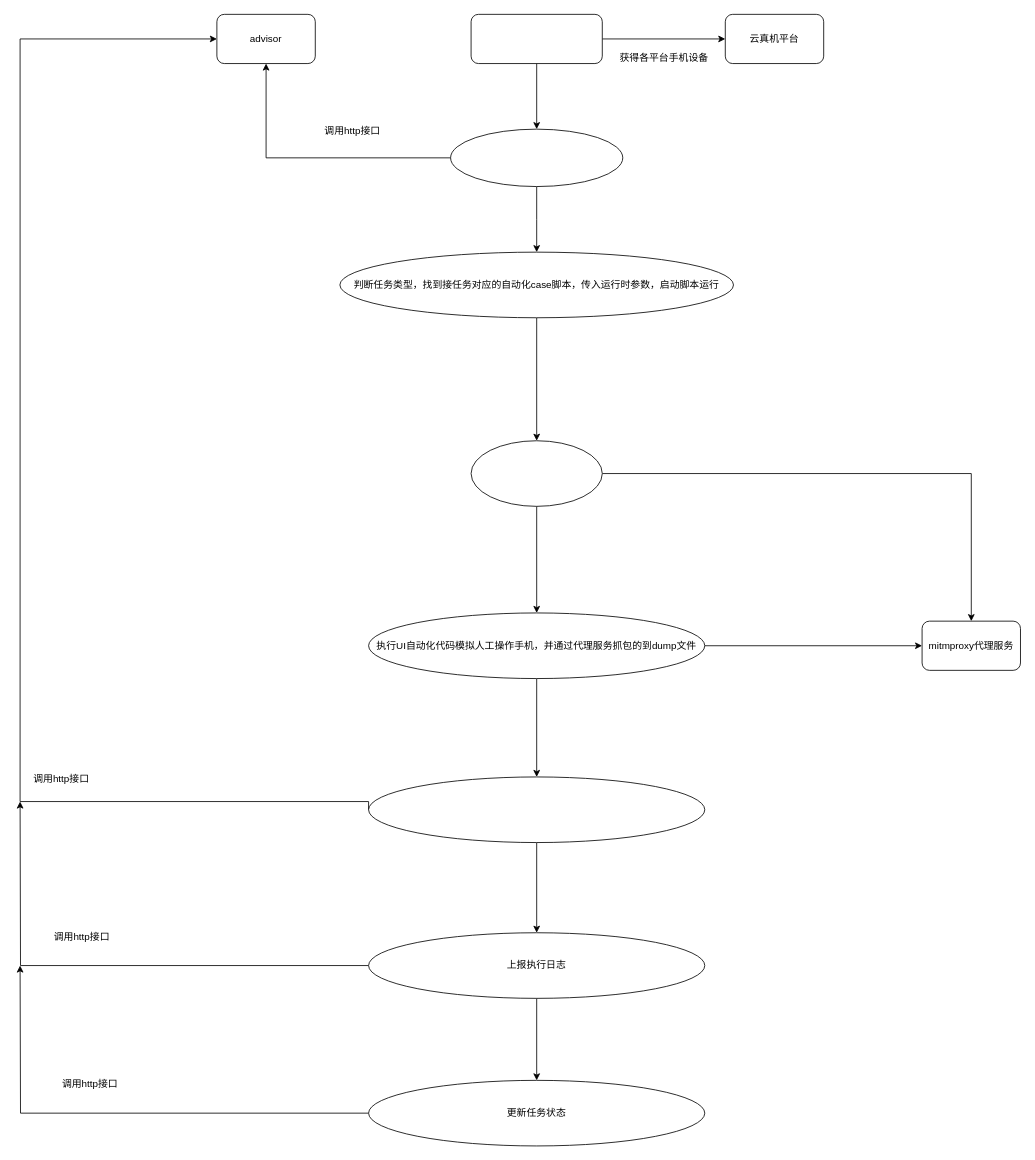
The diagram is 1035 pixels wide and 1160 high, and some of its shapes have lost their labels. Each missing label, with the centre of its shape:
"上传运行UI自动化代码得到的的截图与dump文件" belongs at (536,809).
"定时任务获取待执行自动化任务" belongs at (536,157).
"自动化case管理系统" belongs at (536,39).
"连接代理服务" belongs at (536,473).
